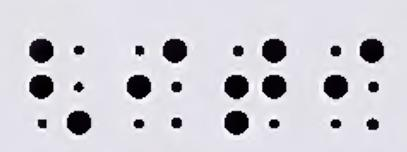i: (126, 38, 188, 129), (324, 38, 384, 130)
ng: (28, 38, 91, 135)
t: (223, 38, 287, 135)
